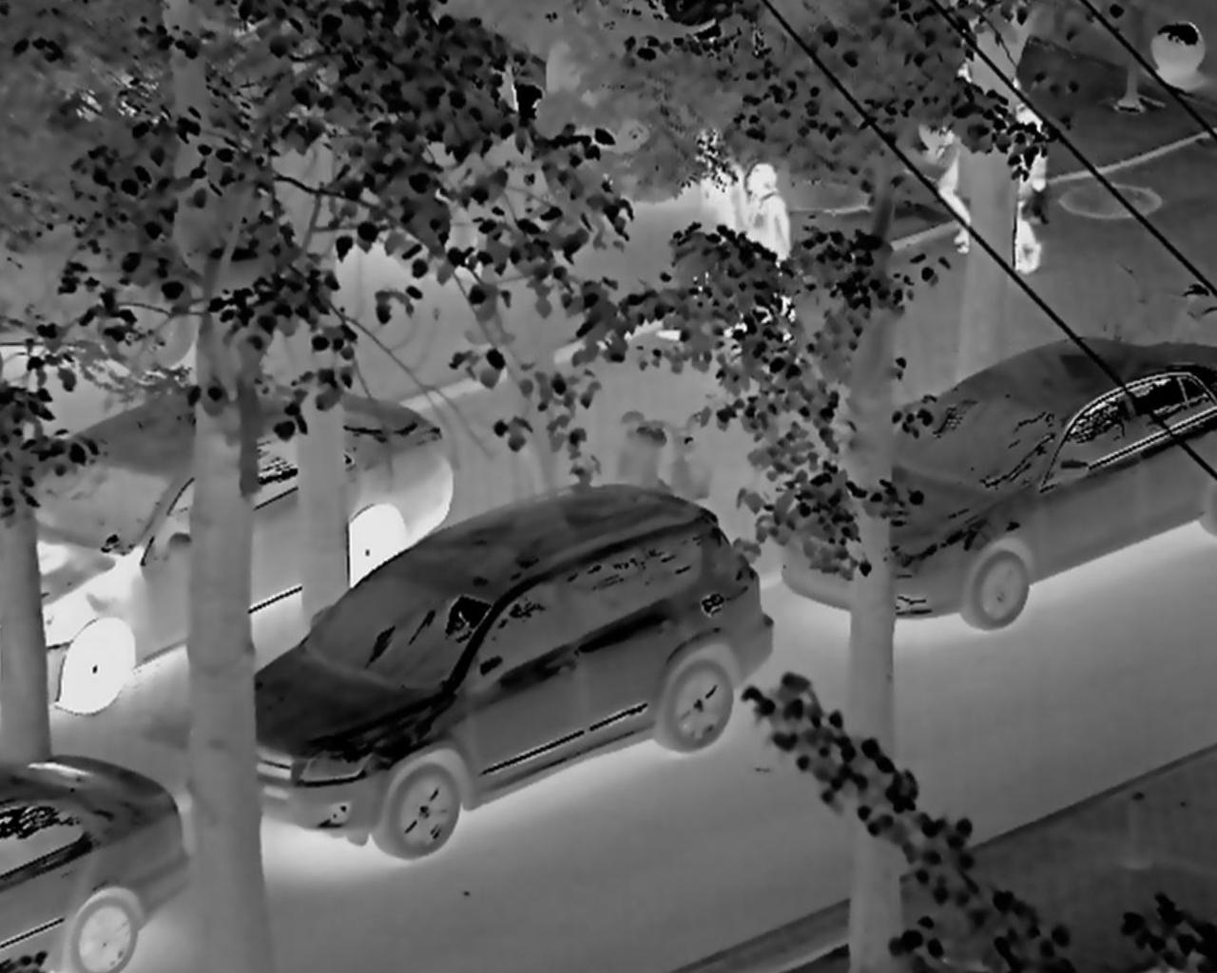person: (736, 150, 797, 315), (1013, 83, 1045, 271)
